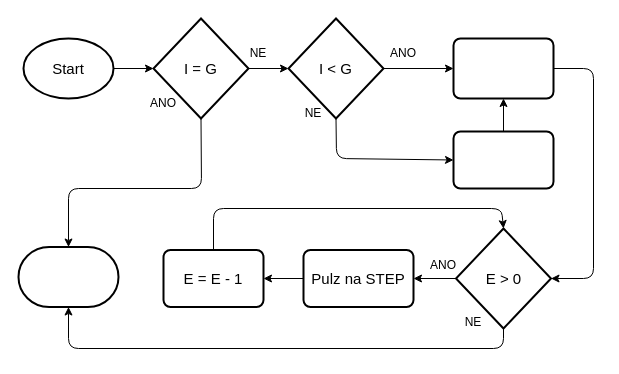
This 619x374 diagram has some shape labels left out. Each missing label, with the centre of its shape:
D = 1: the point at 503,159
Příkaz dokončen: the point at 68,277
| I - G | = E: the point at 503,68
